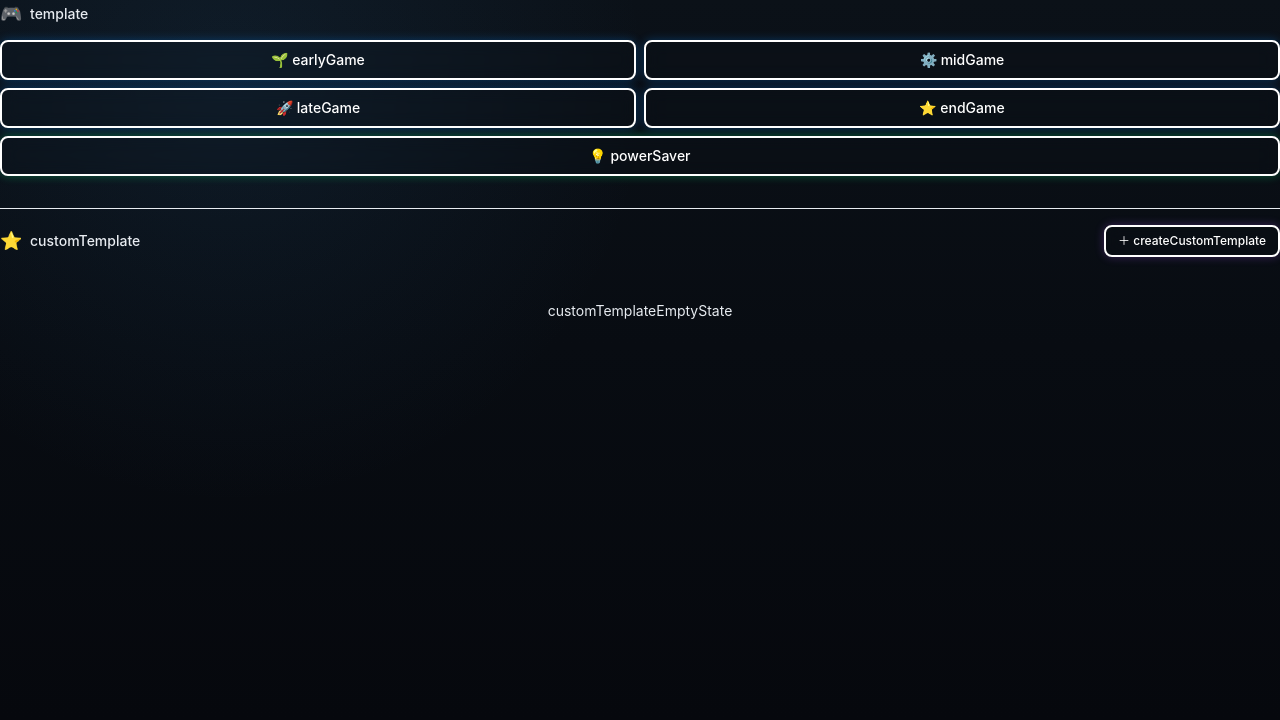
it: TemplateSelector › Confirmation Modal › モーダルに設定の詳細が表示される（Power Saver with production mode）
Click the button "💡powerSaver".
click(640, 156)  # box [0,136,1279,176]
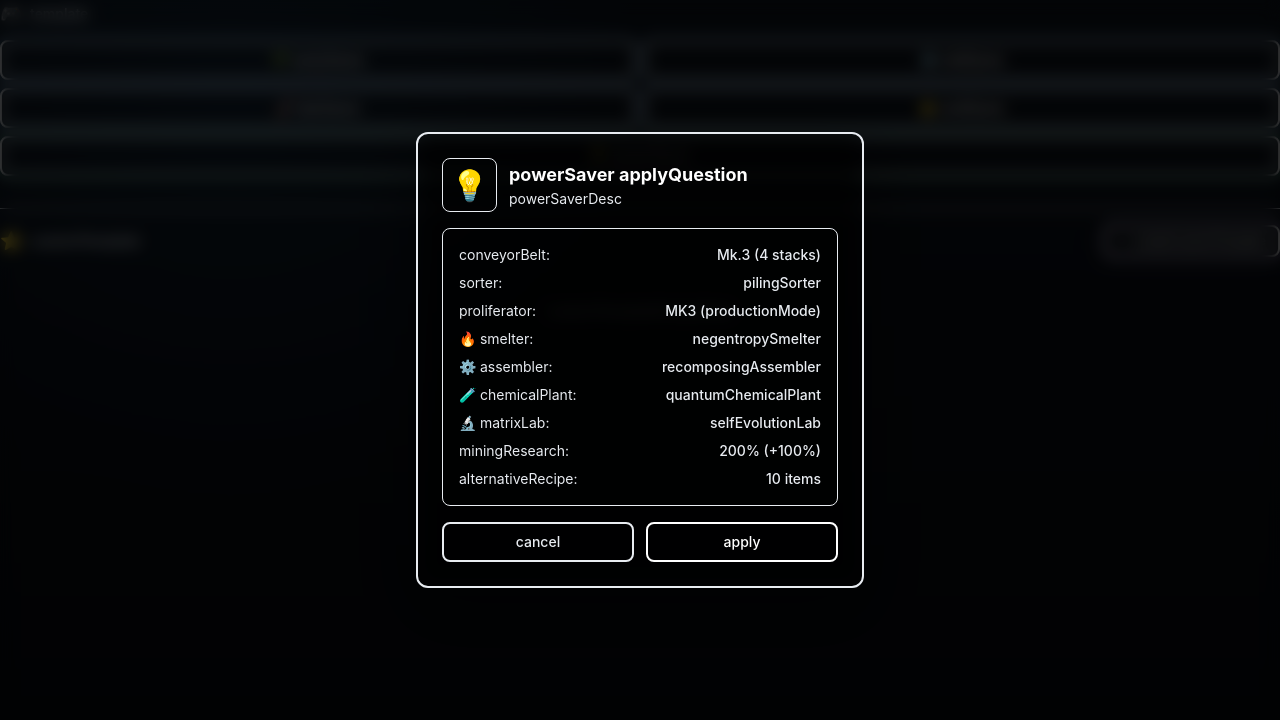
Expected: the text "MK3 (productionMode)" is shown, [665,301,821,321]
